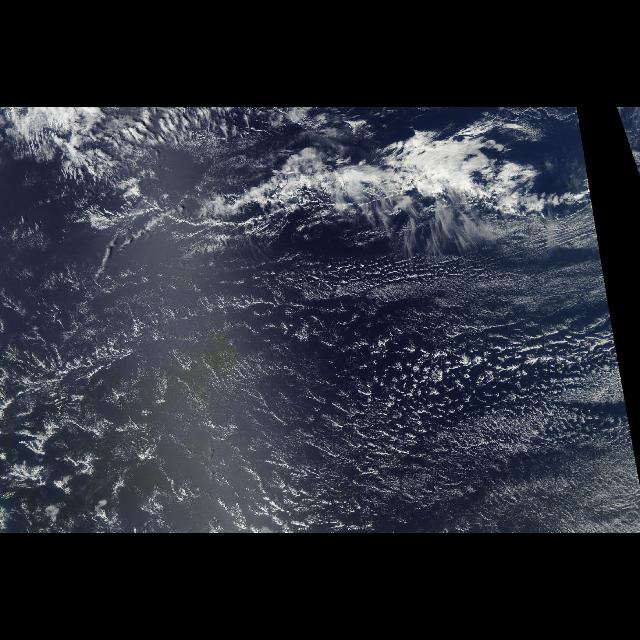Fish: (12, 120, 604, 262)
Gravel: (8, 281, 430, 524)
Sugar: (159, 261, 639, 533)
